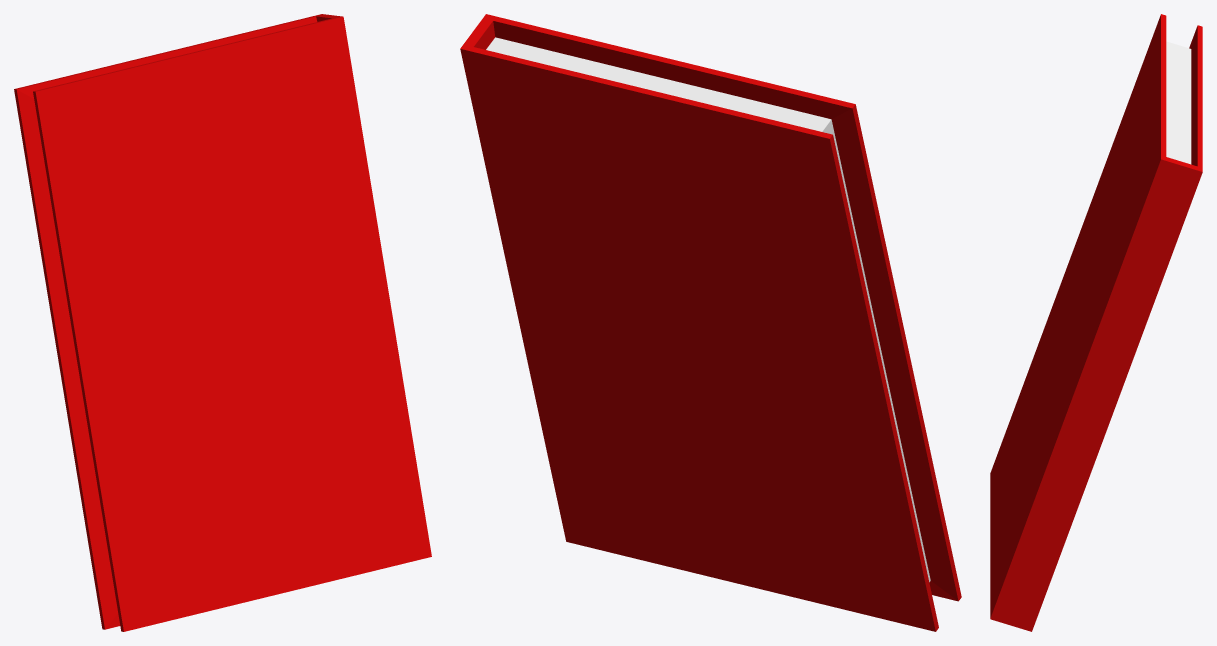
The model's file is LibroRojo.fbx.
3 views of the same model, side by side, from view 1: azimuth 30°, elevation 25°; view 2: azimuth 150°, elevation 25°; view 3: azimuth 270°, elevation 25° (orthographic). The views are drawn at different scales.
Parts seen in each view (by area): view 1: Cubo.1926; view 2: Cubo.1926; view 3: Cubo.1926.
Boxes of the visible parts, x1,y1,x2,y2 form: Cubo.1926: [14, 14, 431, 631]; Cubo.1926: [460, 14, 961, 631]; Cubo.1926: [990, 14, 1202, 631].
Size of the model in its own units: 17.59 by 26.66 by 10.87.
